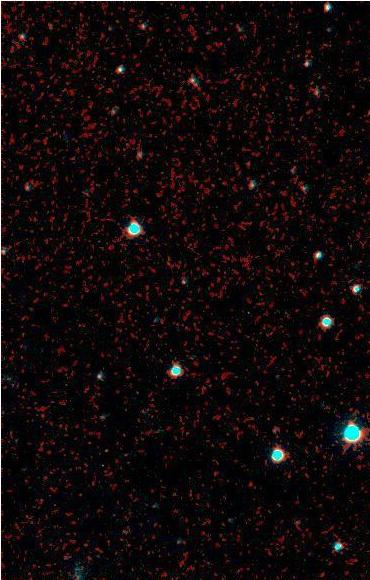star: (53, 141, 83, 171)
